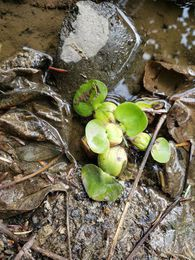water_hyacinth: (67, 77, 172, 205)
